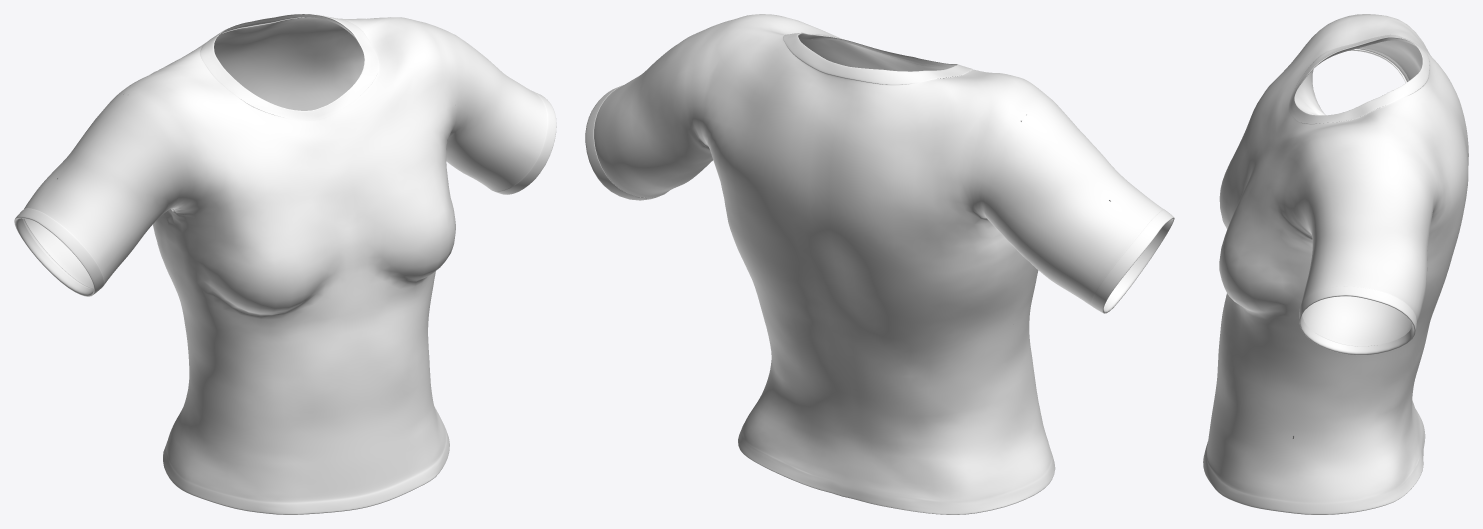
Rendered from Shirt.glb.
3 views of the same model, side by side, from view 1: azimuth 30°, elevation 25°; view 2: azimuth 150°, elevation 25°; view 3: azimuth 270°, elevation 25° (orthographic). The views are drawn at different scales.
Parts seen in each view (by area): view 1: TShirt_for_Genesis.002; view 2: TShirt_for_Genesis.002; view 3: TShirt_for_Genesis.002.
Boxes of the visible parts, bbox=[...] form: TShirt_for_Genesis.002: bbox=[14, 14, 556, 514]; TShirt_for_Genesis.002: bbox=[585, 14, 1174, 514]; TShirt_for_Genesis.002: bbox=[1203, 14, 1468, 514].
Bounding box in the file's own units: 12.83 × 9.73 × 5.85.
1 material, 1 textured.
